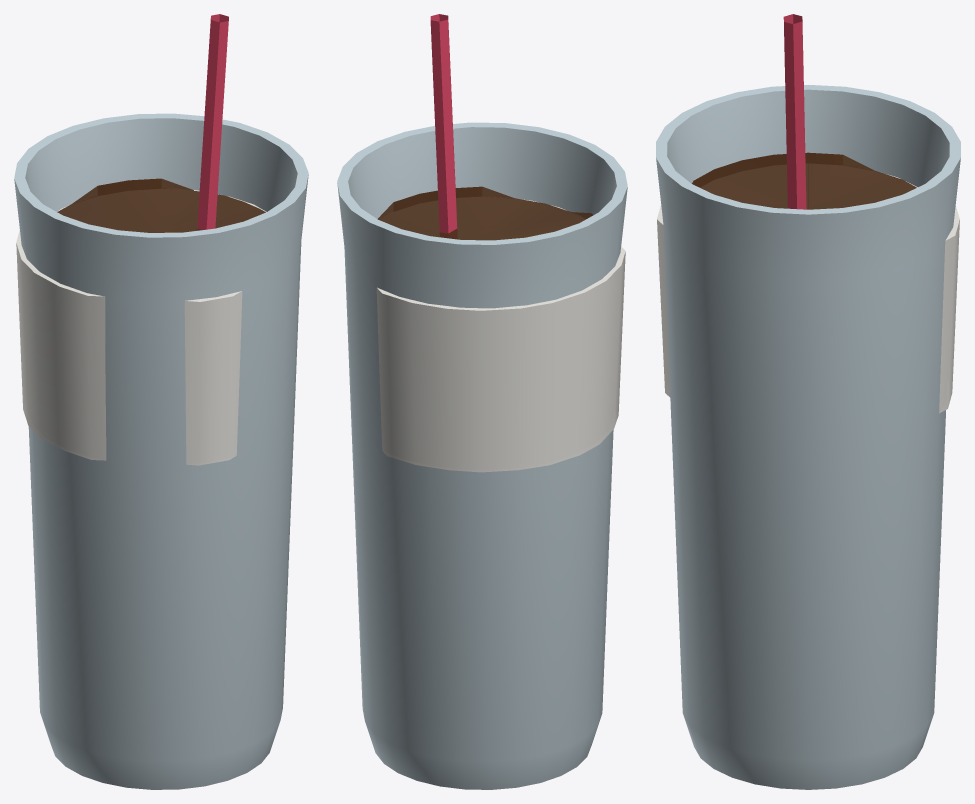
The model's file is drink_iced_coffee_glass.glb.
3 views of the same model, side by side, from view 1: azimuth 30°, elevation 25°; view 2: azimuth 150°, elevation 25°; view 3: azimuth 270°, elevation 25° (orthographic). The views are drawn at different scales.
Parts seen in each view (by area): view 1: drink_iced_coffee_glass; view 2: drink_iced_coffee_glass; view 3: drink_iced_coffee_glass.
Part boxes in pixels (x1,y1,x2,y2): drink_iced_coffee_glass: (14, 14, 308, 789); drink_iced_coffee_glass: (337, 14, 627, 789); drink_iced_coffee_glass: (656, 14, 960, 789).
Bounding box in the file's own units: 0.08 × 0.2152 × 0.0794.
